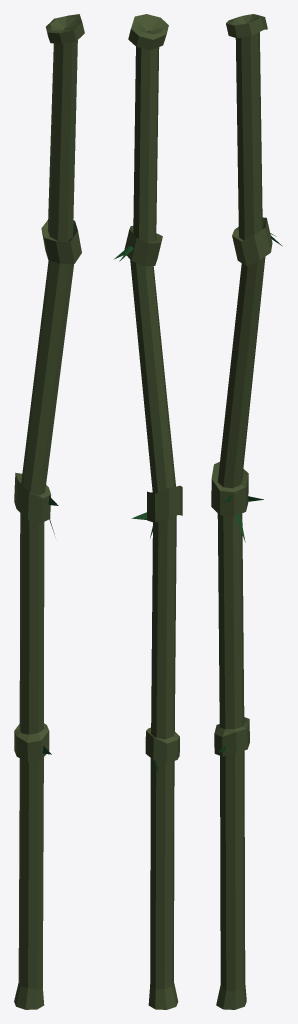
The model's file is 0_bamboo3_v2.fbx.
3 views of the same model, side by side, from view 1: azimuth 30°, elevation 25°; view 2: azimuth 150°, elevation 25°; view 3: azimuth 330°, elevation 25° (orthographic). The views are drawn at different scales.
Visible parts, largest first — view 1: Bamboo.003; view 2: Bamboo.003; view 3: Bamboo.003.
Part boxes in pixels (x1,y1,x2,y2): Bamboo.003: (14,14,84,1009); Bamboo.003: (114,14,182,1009); Bamboo.003: (211,14,282,1009).
Bounding box in the file's own units: 56.77 × 890 × 52.03.
